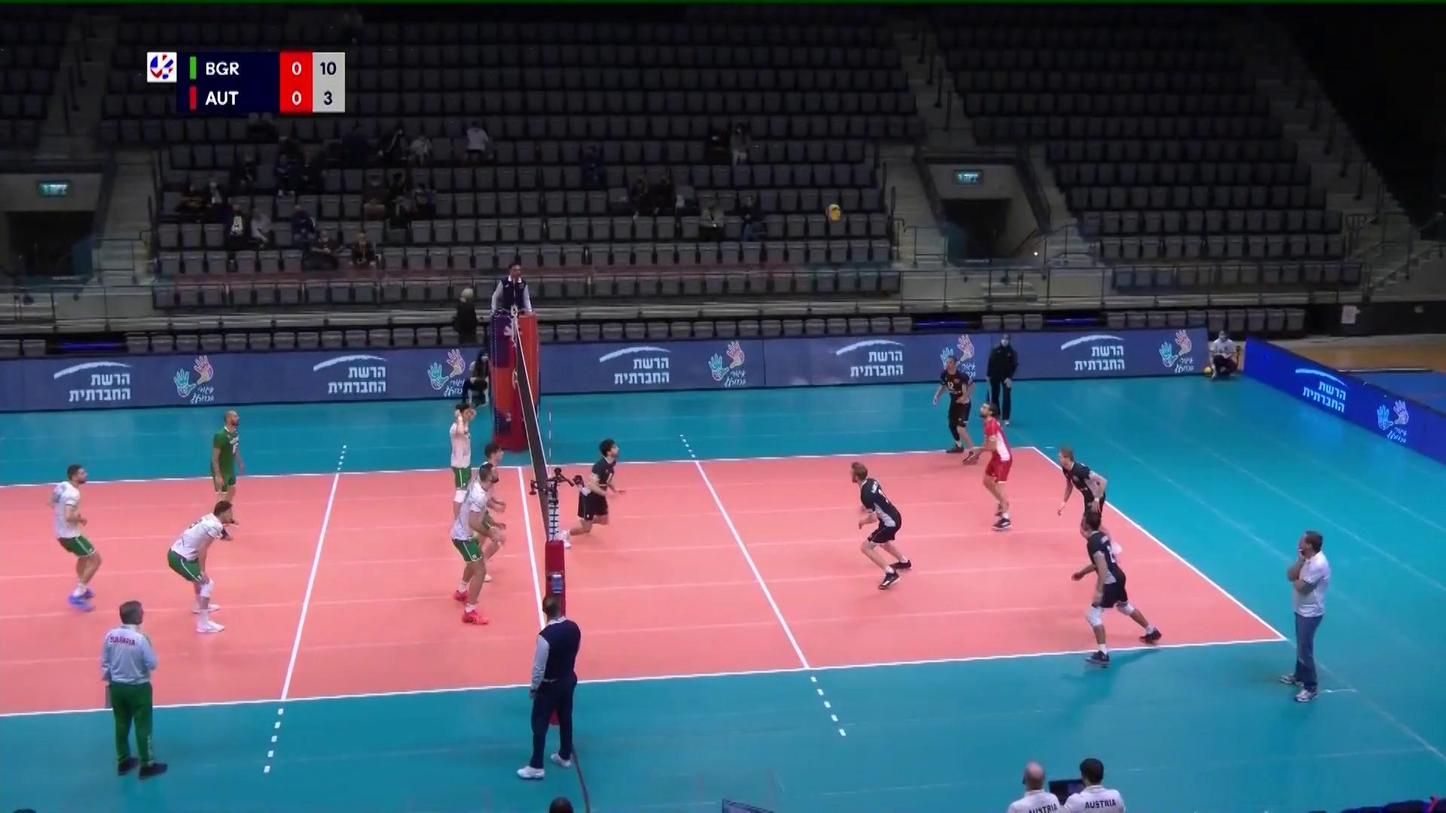ball: (826, 203, 843, 221)
